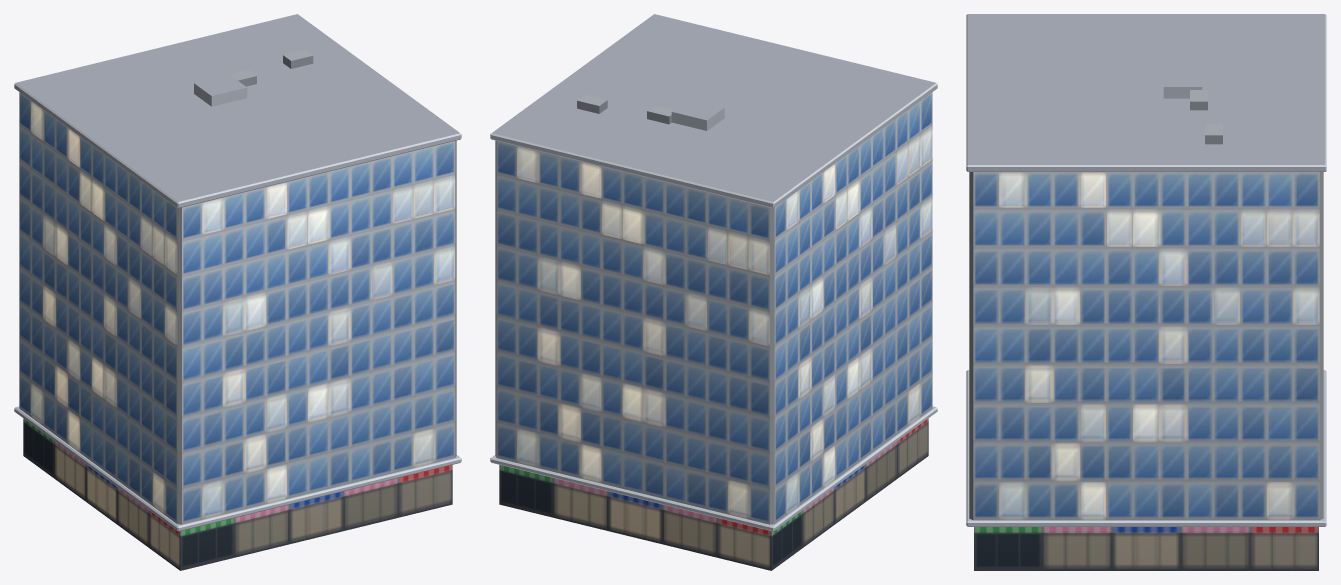
Rendered from building-28x28x36.glb.
3 views of the same model, side by side, from view 1: azimuth 30°, elevation 25°; view 2: azimuth 150°, elevation 25°; view 3: azimuth 270°, elevation 25° (orthographic). The views are drawn at different scales.
Parts seen in each view (by area): view 1: building-28x28x36; view 2: building-28x28x36; view 3: building-28x28x36.
Part boxes in pixels (x1=…): building-28x28x36: x1=14, y1=14, x2=461, y2=570; building-28x28x36: x1=490, y1=14, x2=937, y2=570; building-28x28x36: x1=966, y1=14, x2=1326, y2=570.
Bounding box in the file's own units: 28 × 36 × 28.
1 material, 1 textured.
